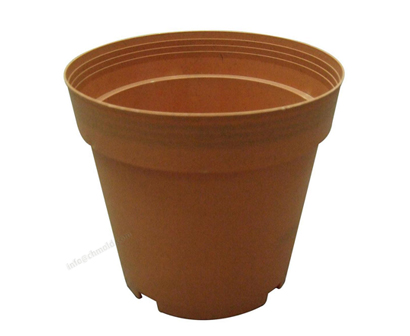Rec_Plastic: (48, 27, 349, 319)
